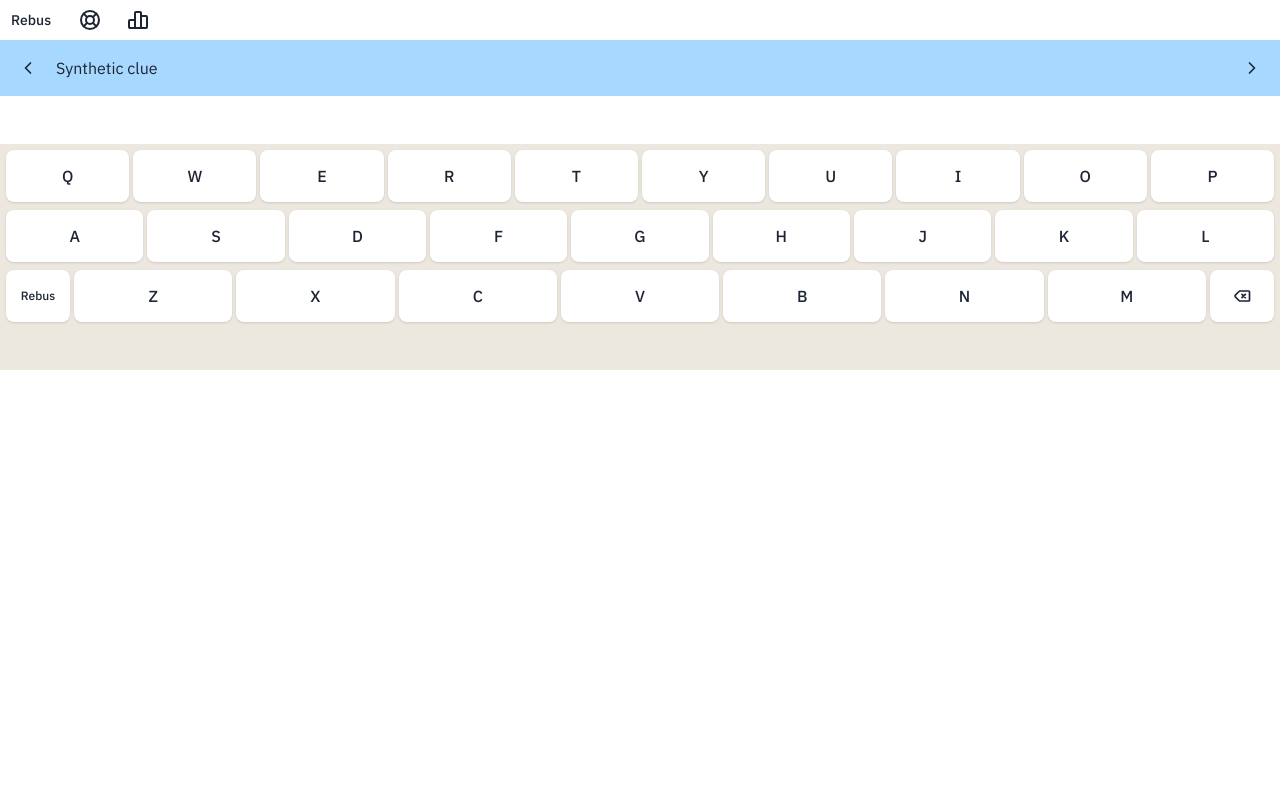
it: crossword entry controls › checks existing entries when toggled on and remembers the setting after reload
Earlier steps of the test are not shown.
Click the button named "Help": click(90, 20) [70, 0, 110, 40]
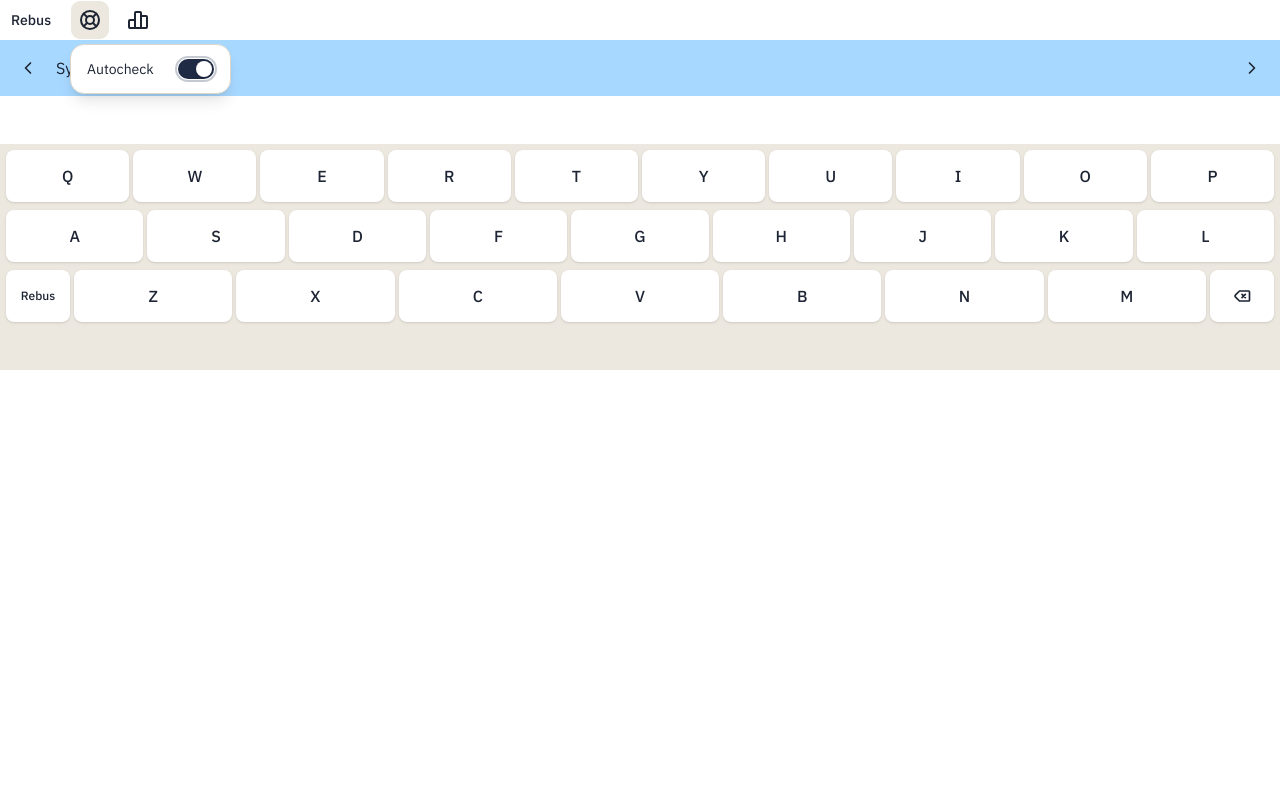
Now the switch labelled "Autocheck" is checked, box [178, 59, 214, 79]
